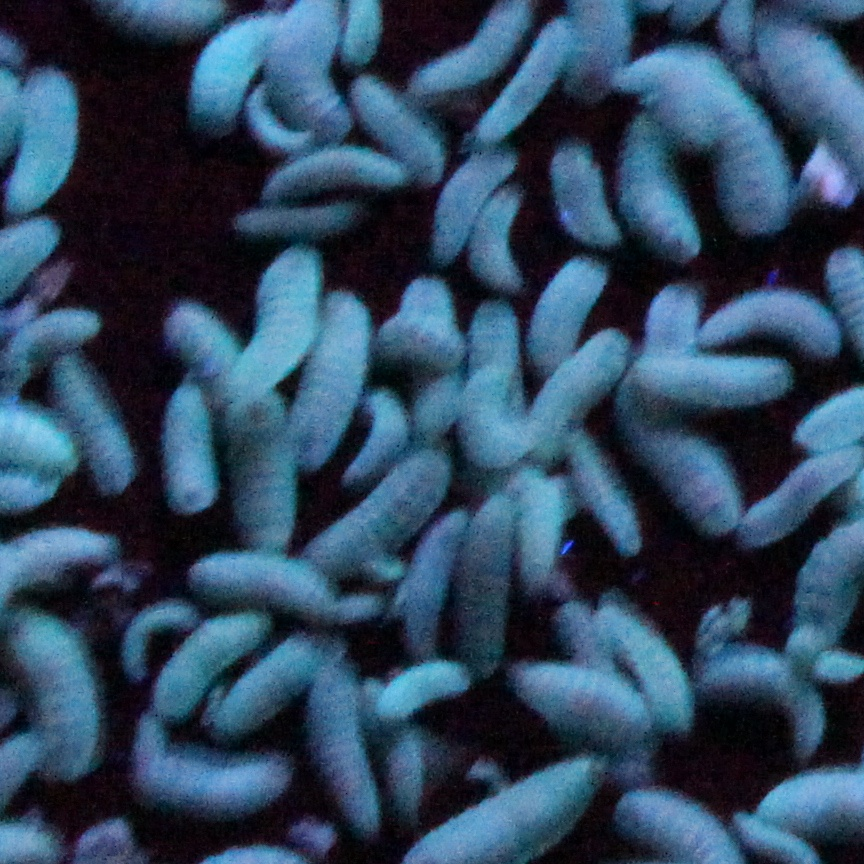larve: (126, 732, 293, 828), (683, 642, 815, 753), (518, 653, 654, 760), (4, 617, 115, 747), (293, 660, 376, 828), (705, 103, 794, 238), (536, 328, 633, 450), (583, 603, 693, 710), (709, 280, 842, 362), (612, 131, 697, 257), (227, 396, 293, 552), (17, 70, 83, 218), (386, 525, 458, 653), (188, 552, 341, 610), (538, 138, 612, 257), (379, 272, 464, 368), (164, 380, 220, 520), (582, 437, 643, 564), (318, 293, 366, 444), (259, 255, 315, 383), (658, 439, 729, 532), (81, 370, 132, 486), (651, 357, 801, 396), (252, 152, 409, 186), (168, 297, 235, 373), (222, 201, 371, 234), (468, 510, 497, 678), (205, 28, 250, 134), (489, 184, 526, 302), (365, 93, 429, 152), (513, 34, 543, 131), (443, 162, 475, 252), (372, 393, 399, 470)
